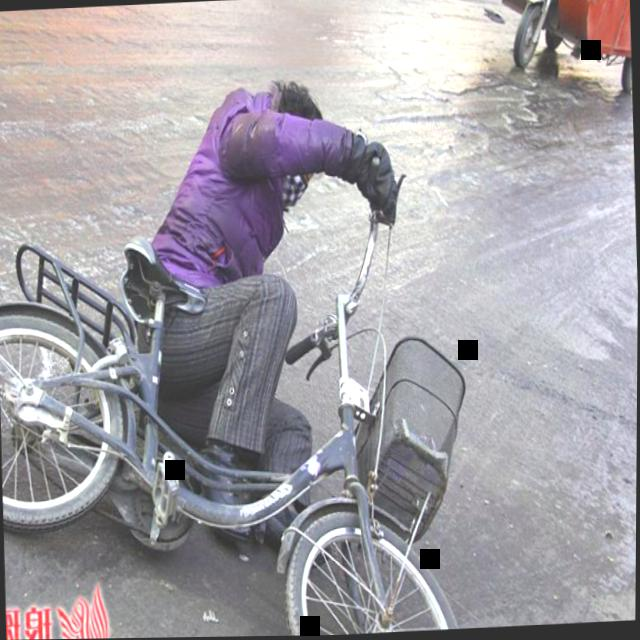Fall-Detected: (92, 45, 425, 545)
